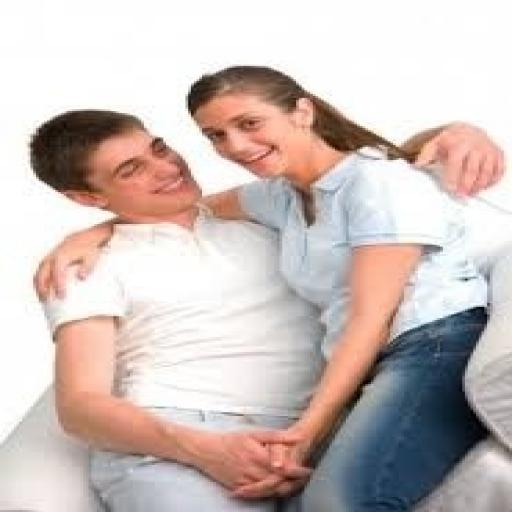hugging: (30, 64, 510, 510)
